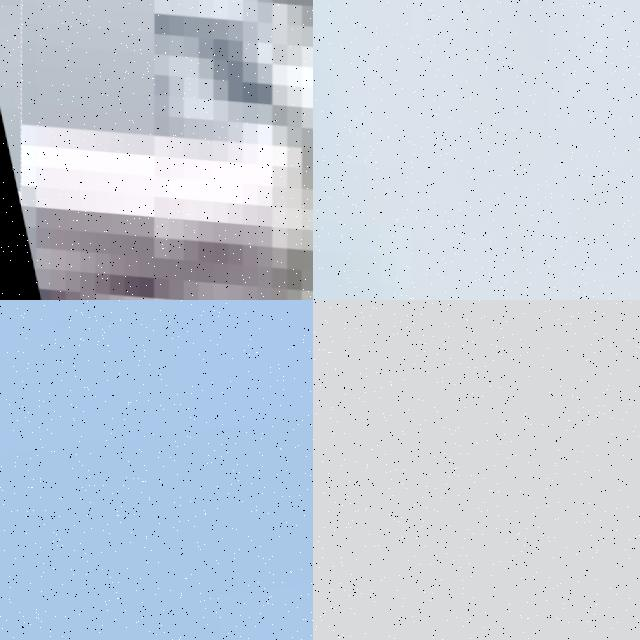0: (0, 0, 313, 300)
drone: (313, 0, 640, 300)
